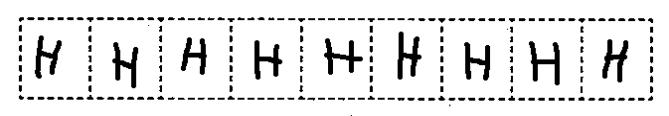H: (522, 39, 568, 89), (319, 33, 366, 81), (390, 27, 428, 82), (458, 35, 497, 88), (107, 36, 142, 94), (26, 30, 63, 84), (596, 37, 636, 86), (175, 32, 215, 80), (248, 38, 286, 81)
